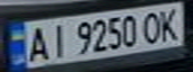0: (121, 12, 142, 47)
2: (90, 16, 112, 53)
5: (106, 15, 127, 51)
9: (72, 18, 93, 56)
A: (21, 23, 51, 62)
I: (45, 20, 72, 60)
K: (157, 6, 187, 42)
O: (139, 8, 166, 44)
